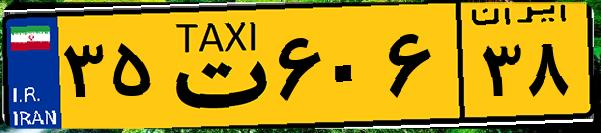0: (330, 28, 385, 110)
3: (57, 26, 110, 100), (475, 38, 525, 113)
5: (110, 28, 158, 98)
6: (270, 28, 330, 110), (385, 28, 445, 110)
8: (525, 38, 570, 115)
ت: (158, 12, 270, 120)
